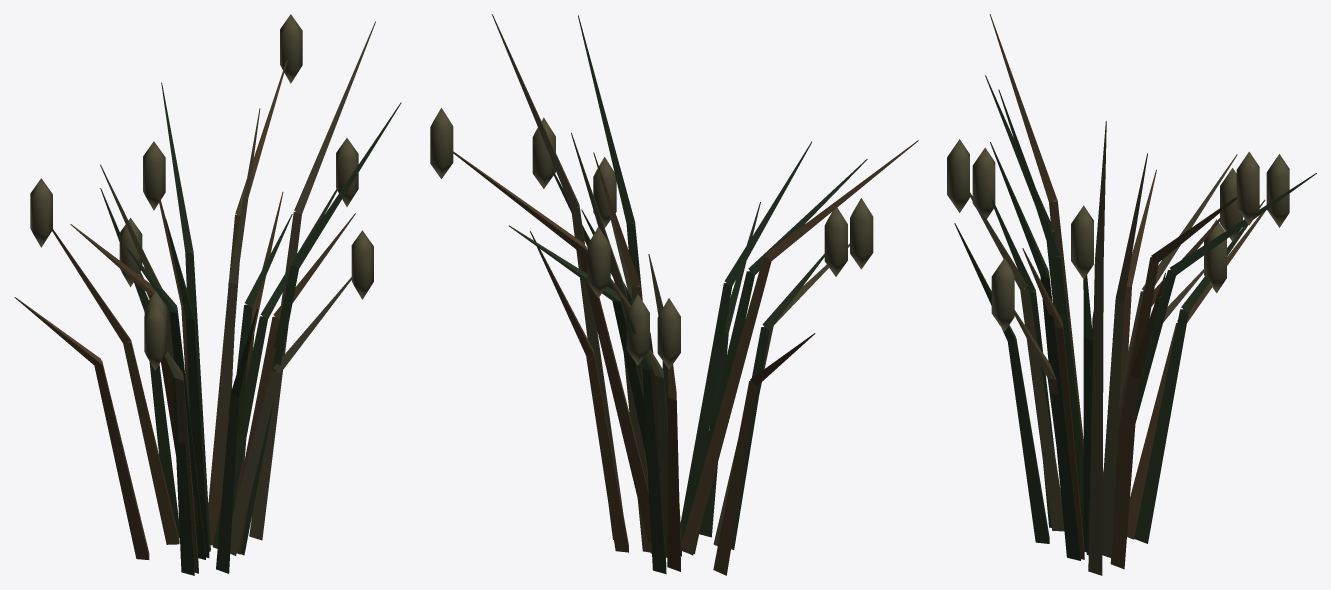
File: SM_ENV_MatoAlto.fbx
3 renders of one model, left to right at view 1: azimuth 30°, elevation 25°; view 2: azimuth 150°, elevation 25°; view 3: azimuth 270°, elevation 25°, orthographic. The views are drawn at different scales.
Visible parts, largest first — view 1: SM_ENV_MatoAlto; view 2: SM_ENV_MatoAlto; view 3: SM_ENV_MatoAlto.
Boxes of the visible parts, left/top/right/bottom form: SM_ENV_MatoAlto: left=14, top=14, right=401, bottom=575; SM_ENV_MatoAlto: left=430, top=14, right=918, bottom=575; SM_ENV_MatoAlto: left=947, top=14, right=1316, bottom=575.
Bounding box in the file's own units: 0.7542 × 0.9701 × 0.6308.
